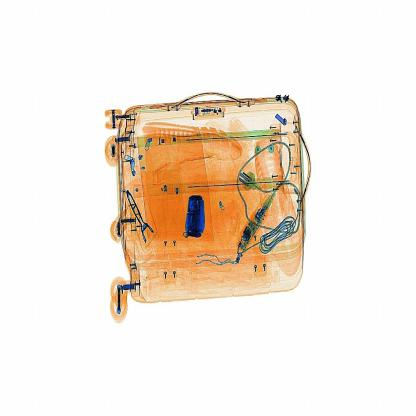scissors: (176, 187, 218, 254)
